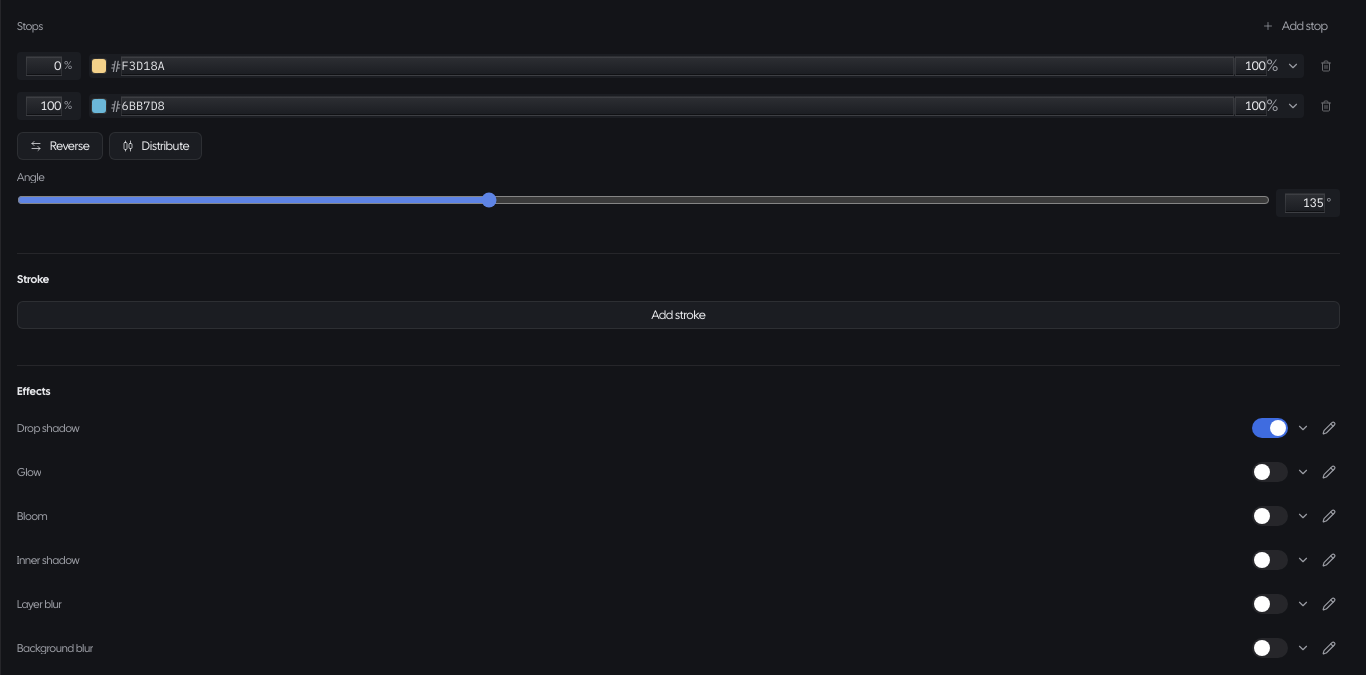
Inspector Stroke (Fase 4) › rótulo honesto: em scale 1 cala, em scale 2 declara os pixels efetivos
This screenshot has width=1366, height=675.
(page scrolled)
Step 1. Click the button "Add stroke" → coordinates (678, 315), box [17,301,1340,329]
(page scrolled)
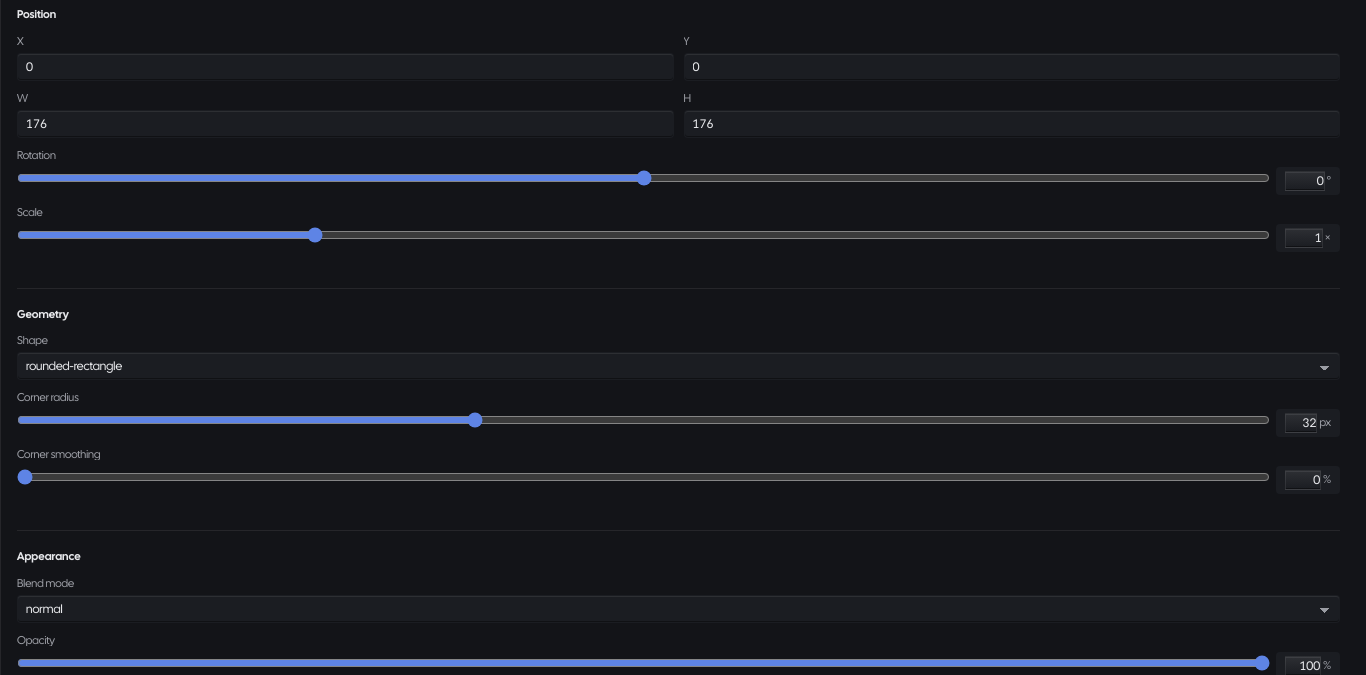
expect the text "px efetivos" is not shown: met
Step 2. Set the slider named "Scale" to "2" → coordinates (631, 235), box [17,227,1270,243]
(page scrolled)
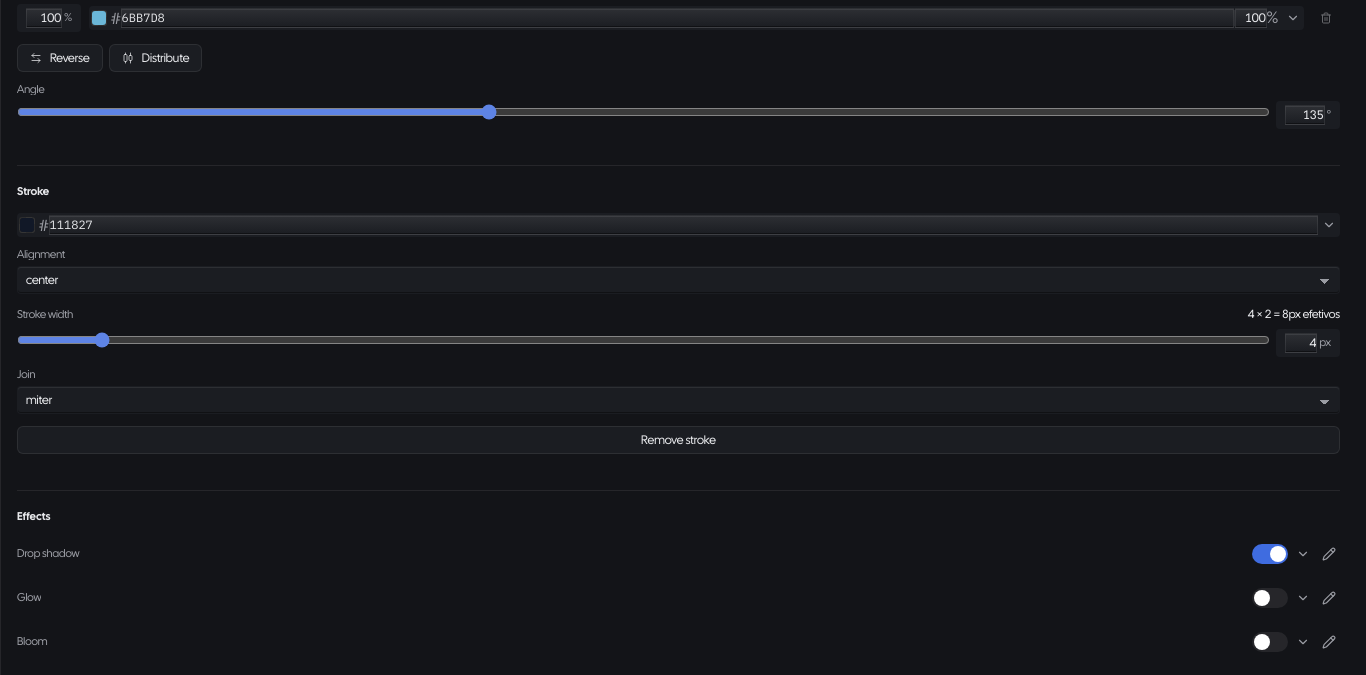
expect the text "4 × 2 = 8px efetivos" is shown: met, box [1248,306,1340,323]
